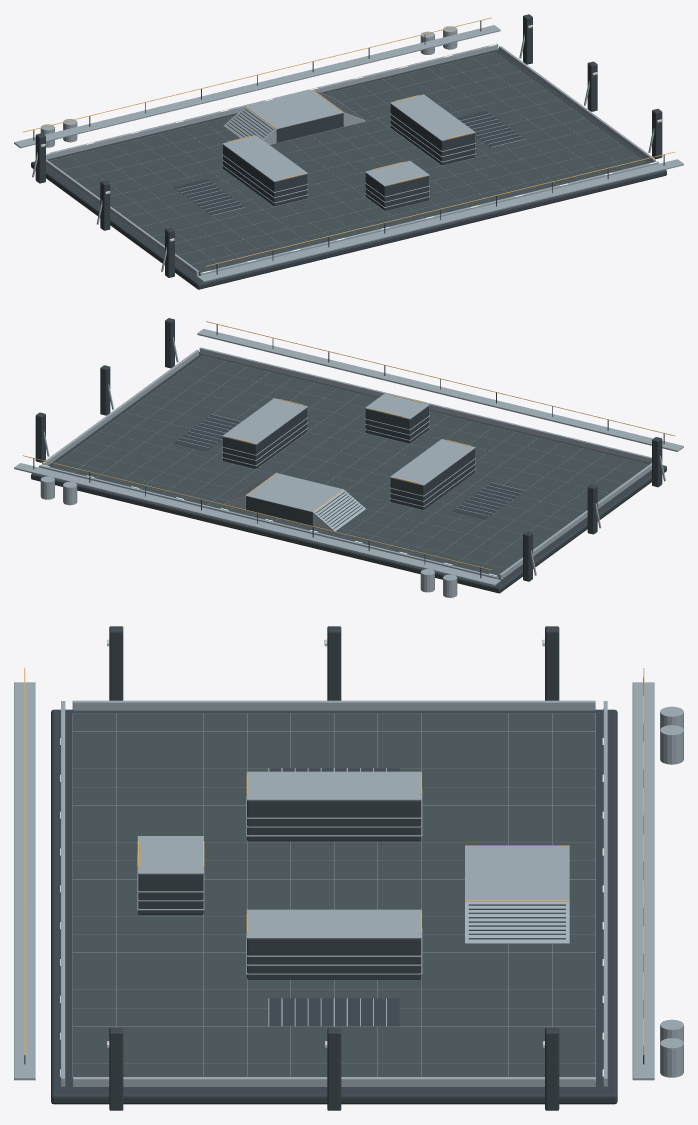
Rendered from map-crossroads.glb.
3 views of the same model, one above another, from view 1: azimuth 30°, elevation 25°; view 2: azimuth 150°, elevation 25°; view 3: azimuth 270°, elevation 25° (orthographic). The views are drawn at different scales.
Parts seen in each view (by area): view 1: CompetitionFloor, Arena_BrushedTitanium, Arena_GraphiteArmor, Arena_WarningAmber; view 2: CompetitionFloor, Arena_BrushedTitanium, Arena_GraphiteArmor, Arena_WarningAmber; view 3: CompetitionFloor, Arena_BrushedTitanium, Arena_GraphiteArmor, Arena_WarningAmber.
Boxes of the visible parts, x1=… form: CompetitionFloor: x1=49, y1=52, x2=646, y2=274; Arena_BrushedTitanium: x1=14, y1=25, x2=683, y2=282; Arena_GraphiteArmor: x1=31, y1=14, x2=666, y2=289; Arena_WarningAmber: x1=22, y1=17, x2=674, y2=266; CompetitionFloor: x1=51, y1=356, x2=648, y2=577; Arena_BrushedTitanium: x1=14, y1=329, x2=683, y2=597; Arena_GraphiteArmor: x1=31, y1=318, x2=666, y2=593; Arena_WarningAmber: x1=22, y1=321, x2=674, y2=570; CompetitionFloor: x1=73, y1=713, x2=595, y2=1076; Arena_BrushedTitanium: x1=14, y1=682, x2=683, y2=1087; Arena_GraphiteArmor: x1=24, y1=626, x2=644, y2=1110; Arena_WarningAmber: x1=24, y1=668, x2=644, y2=1055.
Bounding box in the file's own units: 44.66 × 4.2 × 30.75.
